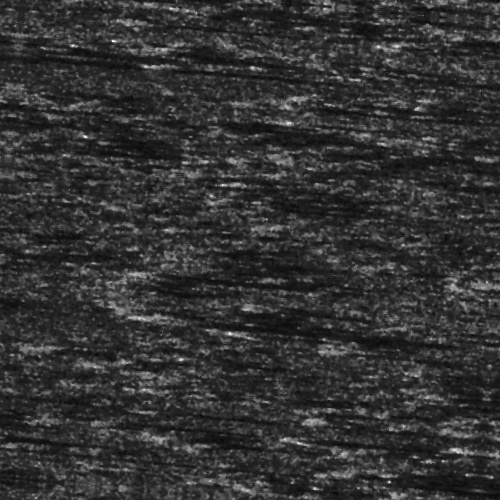object: (418, 480, 500, 497), (136, 314, 209, 333), (299, 336, 414, 345), (245, 299, 328, 308), (277, 426, 350, 435), (109, 71, 192, 76), (261, 114, 302, 119), (326, 59, 367, 62), (125, 278, 156, 281), (488, 424, 500, 431)
shadow: (173, 314, 410, 333), (0, 56, 230, 65), (0, 132, 123, 147), (313, 426, 497, 435), (287, 299, 412, 308), (357, 336, 481, 345), (0, 2, 101, 13), (151, 71, 350, 76), (0, 73, 294, 76), (0, 437, 37, 454), (141, 278, 320, 281), (471, 480, 500, 497), (347, 59, 500, 62), (282, 114, 351, 119), (130, 28, 195, 31)
